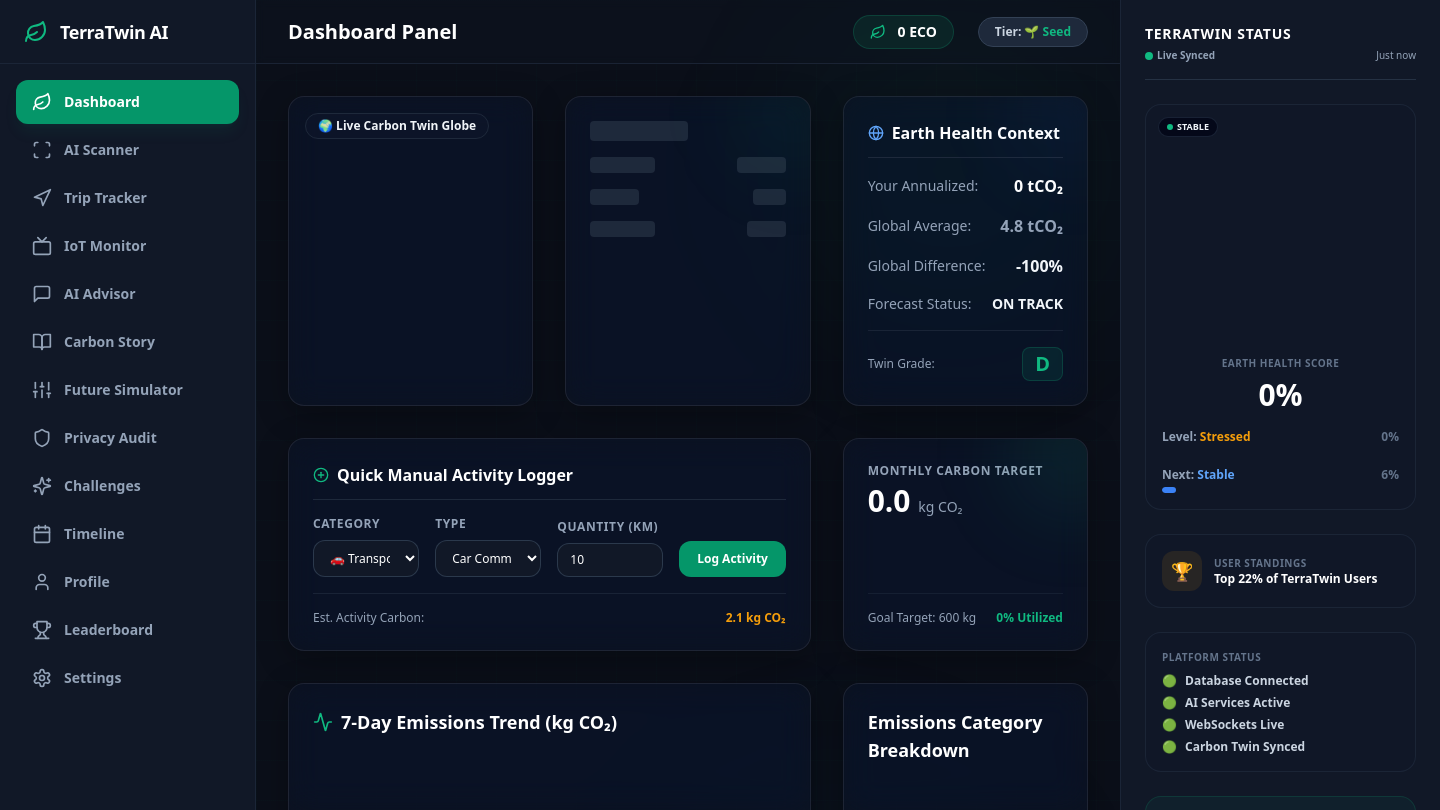
it: TerraTwin AI Frontend Portal Tests › TerraTwin Detailed Component and Interaction Flow Tests › Carbon Story loads successfully and renders recommendations
The width and height of the screenshot is (1440, 810).
expect the heading "dashboard Panel" is shown: met, box [288,18,457,46]
What coordinates should you click on to do the following:
click the button with aria-label "Navigate to Carbon Story"
I would click on:
 (128, 342)
Its box is [16,320,239,364].
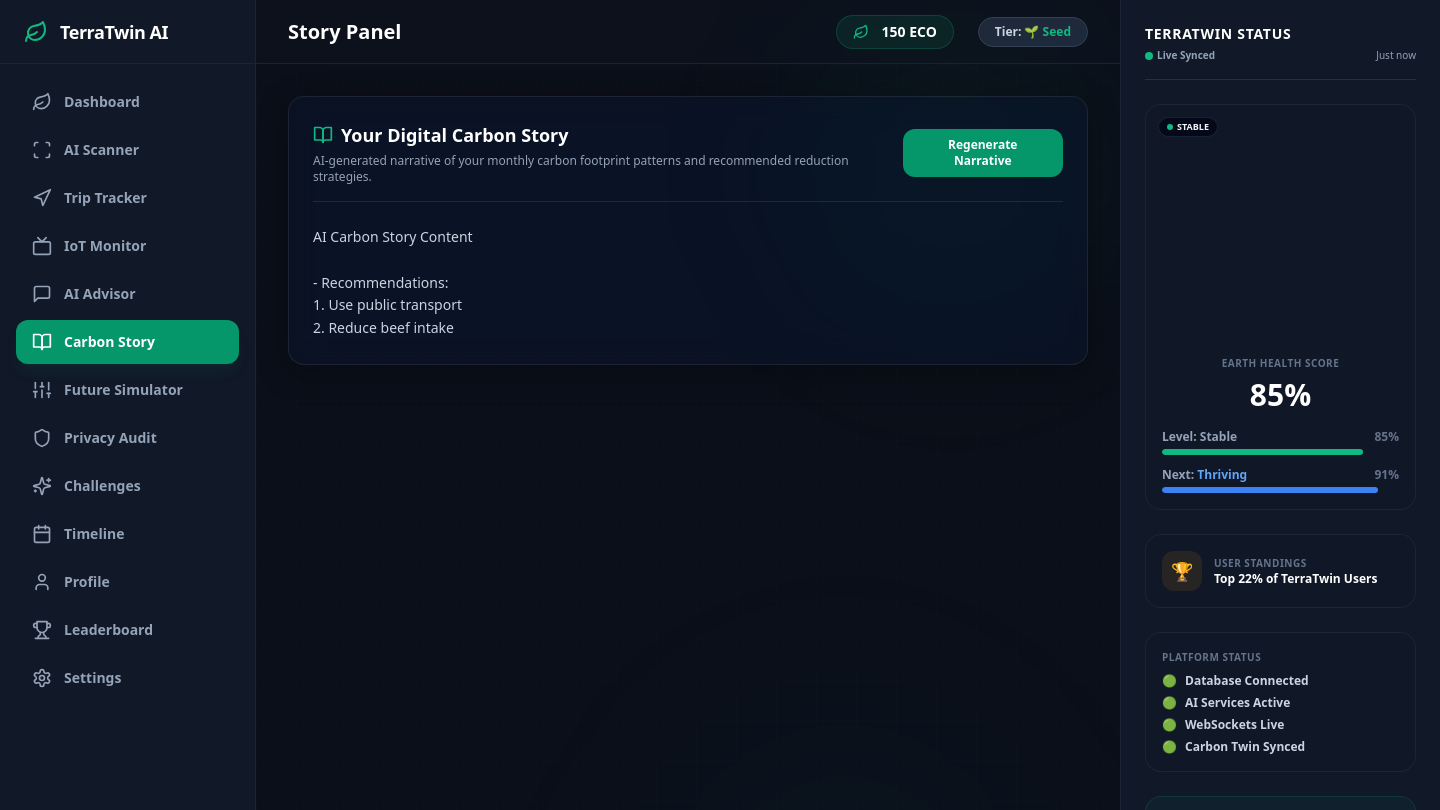
expect the heading "story Panel" is shown: met, box [288,18,402,46]
expect the text "Recommendations" is shown: met, box [313,227,473,337]
